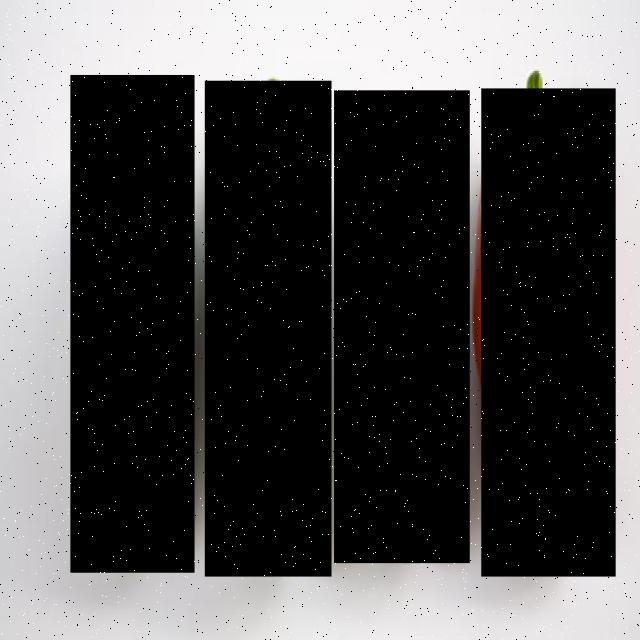Chili_Pepper: (481, 89, 616, 576), (335, 91, 470, 563), (205, 81, 331, 576), (70, 75, 195, 572)
